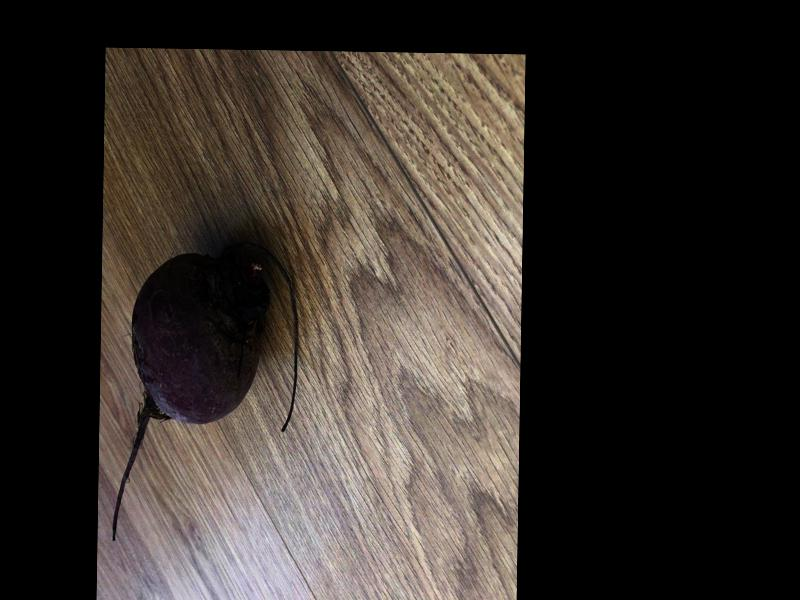Beet: (112, 243, 299, 544)
